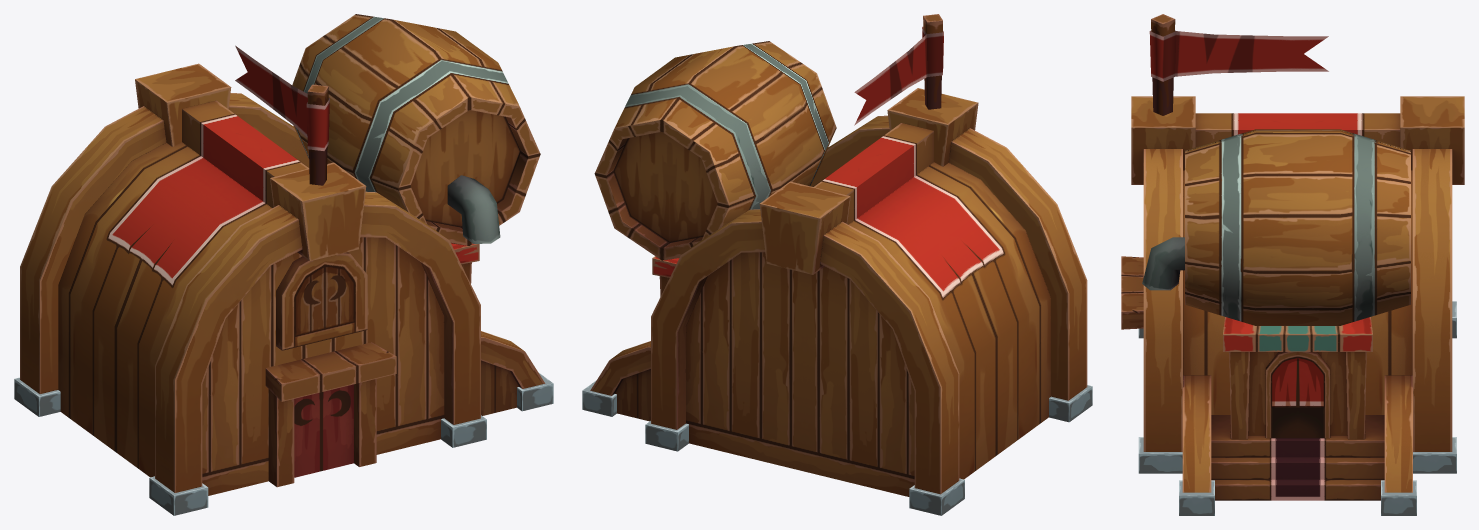
File: building_01.FBX
3 renders of one model, left to right at view 1: azimuth 30°, elevation 25°; view 2: azimuth 150°, elevation 25°; view 3: azimuth 270°, elevation 25°, orthographic. The views are drawn at different scales.
Visible parts, largest first — view 1: Box001; view 2: Box001; view 3: Box001.
Part boxes in pixels (bbox=[...]): Box001: bbox=[14, 14, 553, 515]; Box001: bbox=[582, 14, 1092, 515]; Box001: bbox=[1121, 14, 1464, 515].
Size of the model in its own units: 719 by 638 by 524.
